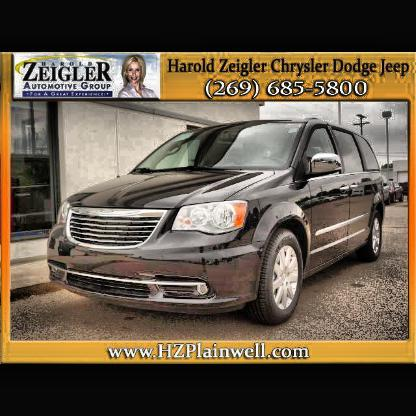Chrysler Town and Country Minivan 2012: (42, 121, 389, 325)
